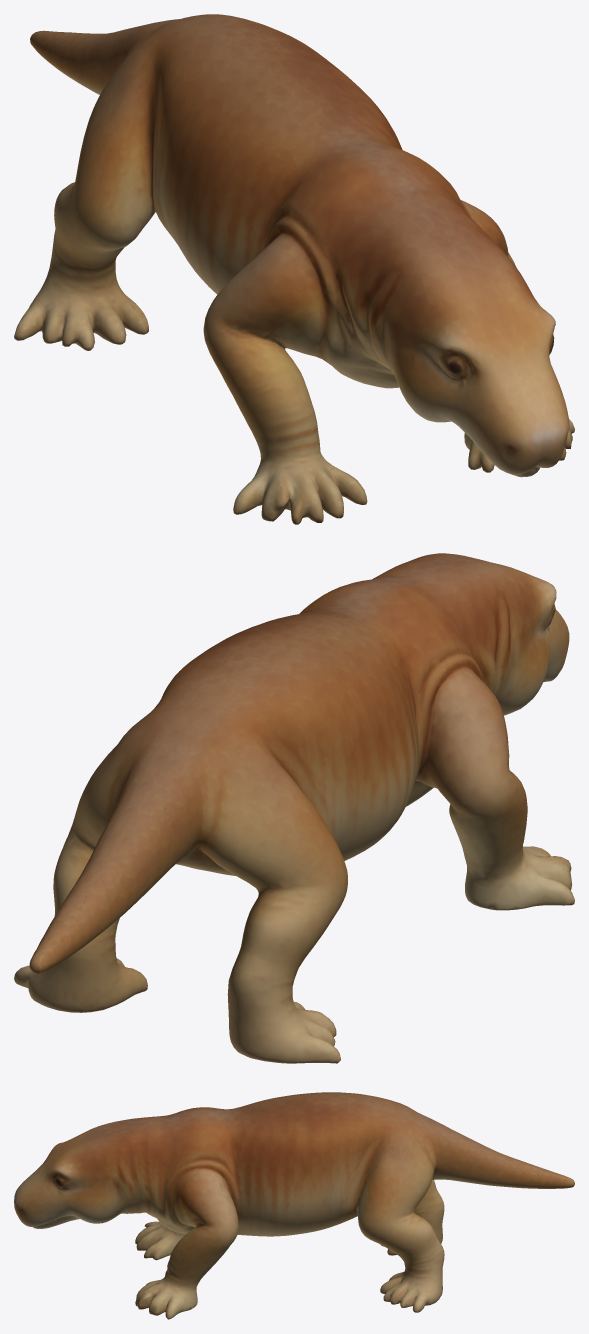
3 views of the same model, one above another, from view 1: azimuth 30°, elevation 25°; view 2: azimuth 150°, elevation 25°; view 3: azimuth 270°, elevation 25° (orthographic). The views are drawn at different scales.
Parts seen in each view (by area): view 1: world; view 2: world; view 3: world.
Part boxes in pixels (x1,y1,x2,y2): world: [14, 14, 574, 524]; world: [14, 553, 574, 1063]; world: [14, 1092, 574, 1319].
Bounding box in the file's own units: 0.1728 × 0.1571 × 0.45.
1 material, 1 textured.
